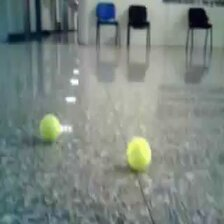tennis: (126, 136, 152, 171), (39, 113, 61, 139)
